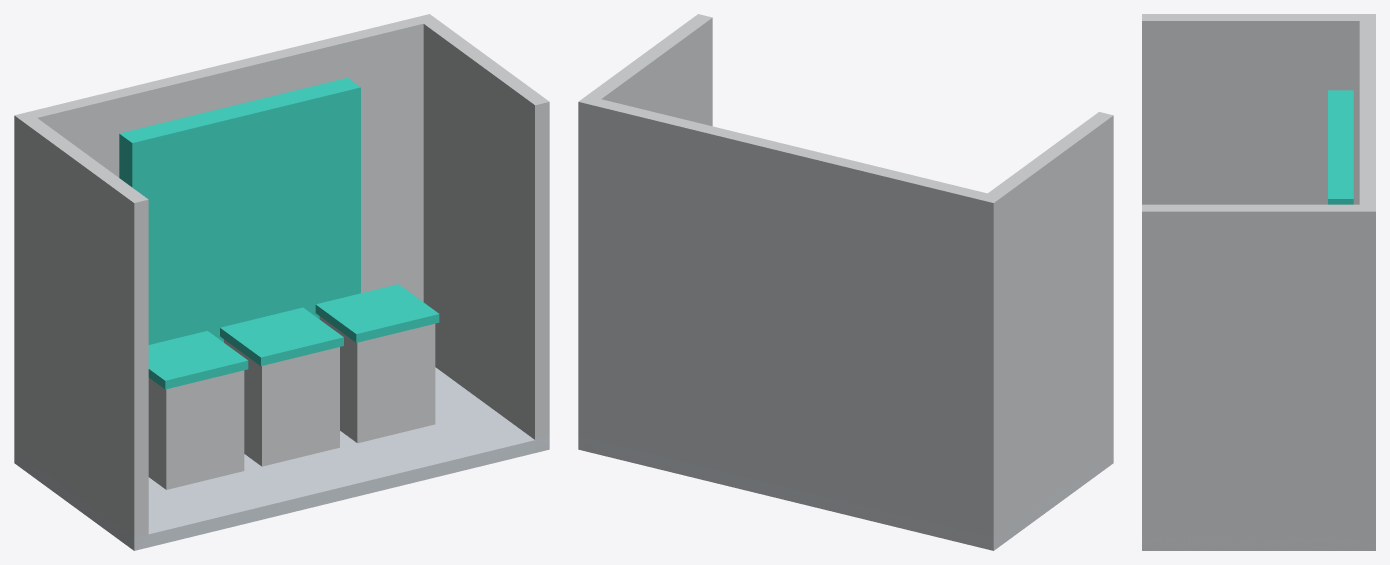
3 views of the same model, side by side, from view 1: azimuth 30°, elevation 25°; view 2: azimuth 150°, elevation 25°; view 3: azimuth 270°, elevation 25° (orthographic). The views are drawn at different scales.
Visible parts, largest first — view 1: Exhibition Booth Concept; view 2: Exhibition Booth Concept; view 3: Exhibition Booth Concept.
Boxes of the visible parts, x1=… form: Exhibition Booth Concept: x1=14, y1=14, x2=549, y2=550; Exhibition Booth Concept: x1=578, y1=14, x2=1113, y2=550; Exhibition Booth Concept: x1=1142, y1=14, x2=1375, y2=550.
Bounding box in the file's own units: 4 × 3.2 × 2.
